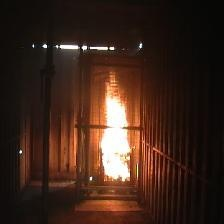fire: (97, 70, 141, 180)
